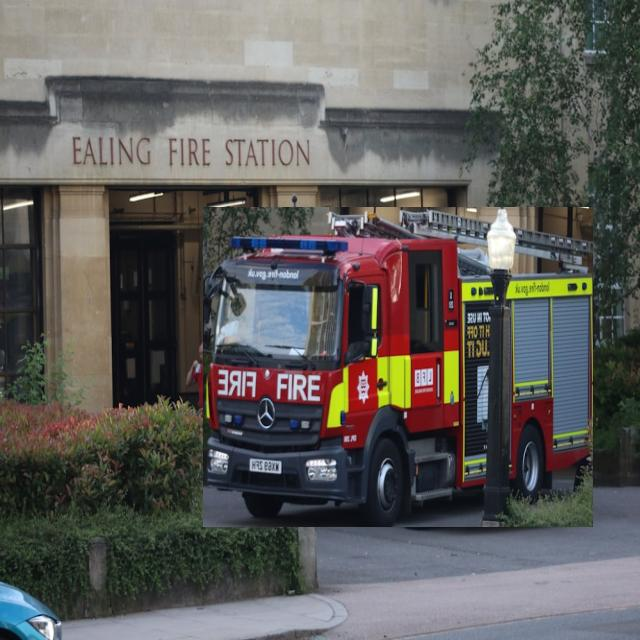emergency: (204, 208, 593, 527)
